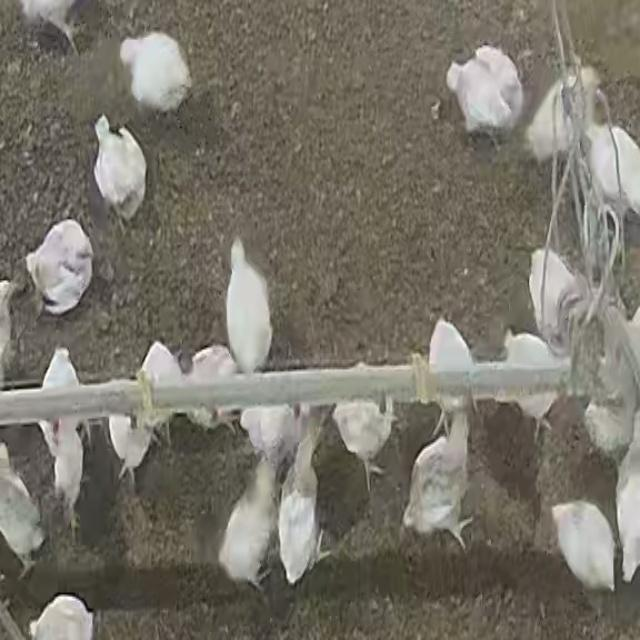chicken: (214, 459, 279, 589), (406, 415, 473, 534), (524, 66, 602, 166), (330, 387, 398, 494), (526, 247, 588, 361), (499, 330, 563, 440), (224, 237, 274, 376), (279, 430, 323, 583), (549, 501, 618, 598), (24, 220, 92, 318), (447, 46, 518, 136), (92, 113, 146, 230), (116, 31, 191, 111), (585, 122, 639, 232), (0, 442, 43, 570), (187, 345, 242, 431), (429, 317, 478, 411), (14, 0, 92, 56), (39, 344, 78, 443), (139, 339, 181, 420), (240, 405, 300, 457), (27, 593, 93, 640), (52, 416, 85, 507), (109, 415, 154, 475)
